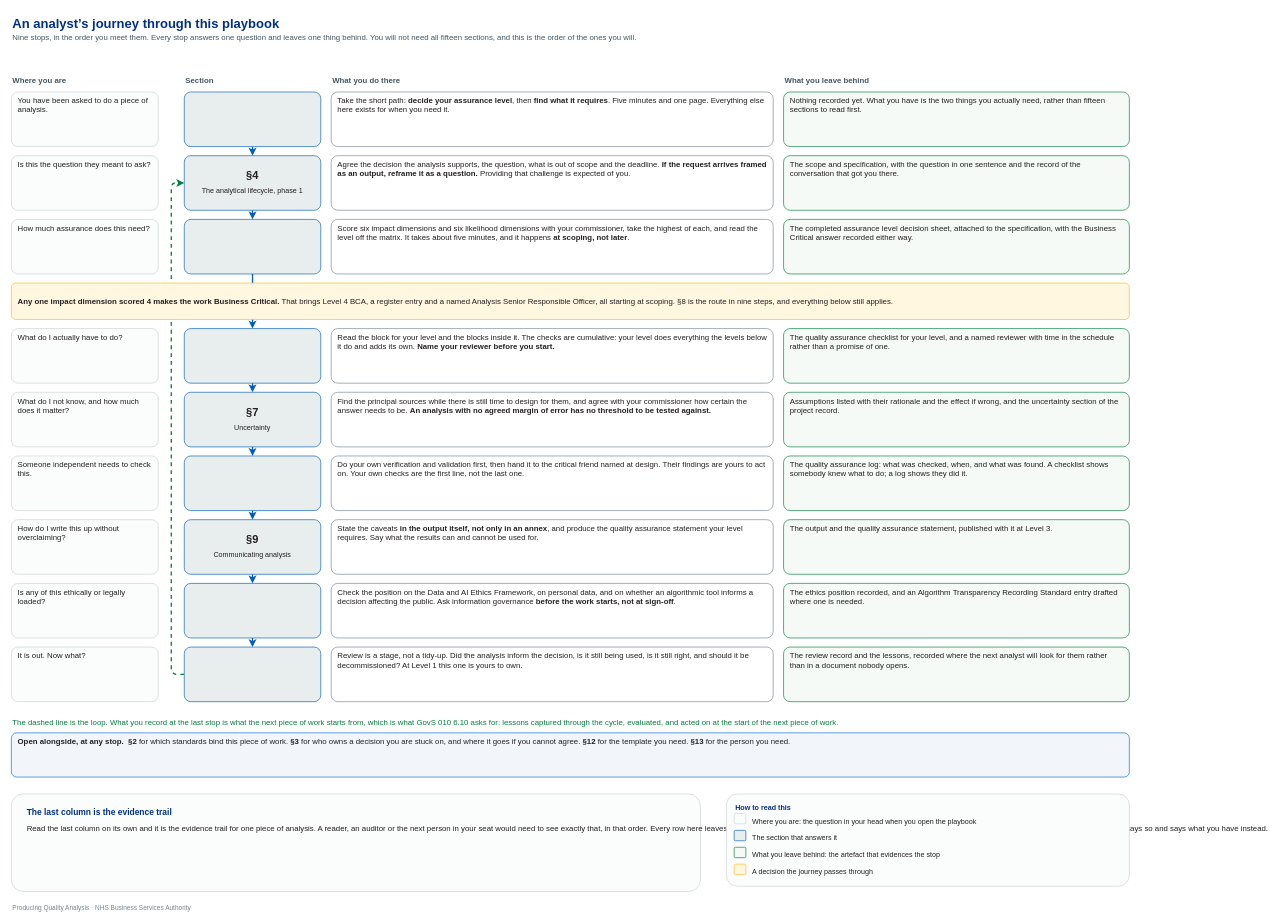
This 1280x923 diagram has some shape labels left out. The shapes that lost their labels are listed below. From the top down, each one's centre as x and y in pixels, then its label:
(x=252, y=119): §0 How to use this playbook
(x=252, y=246): §5 Deciding your assurance level
(x=252, y=355): §6 Doing the work
(x=252, y=483): §6 Doing the work, phase 3
(x=252, y=610): §10 Ethics and transparency
(x=252, y=674): §11 Review and continuous improvement
